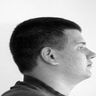ear: (38, 42, 62, 69)
